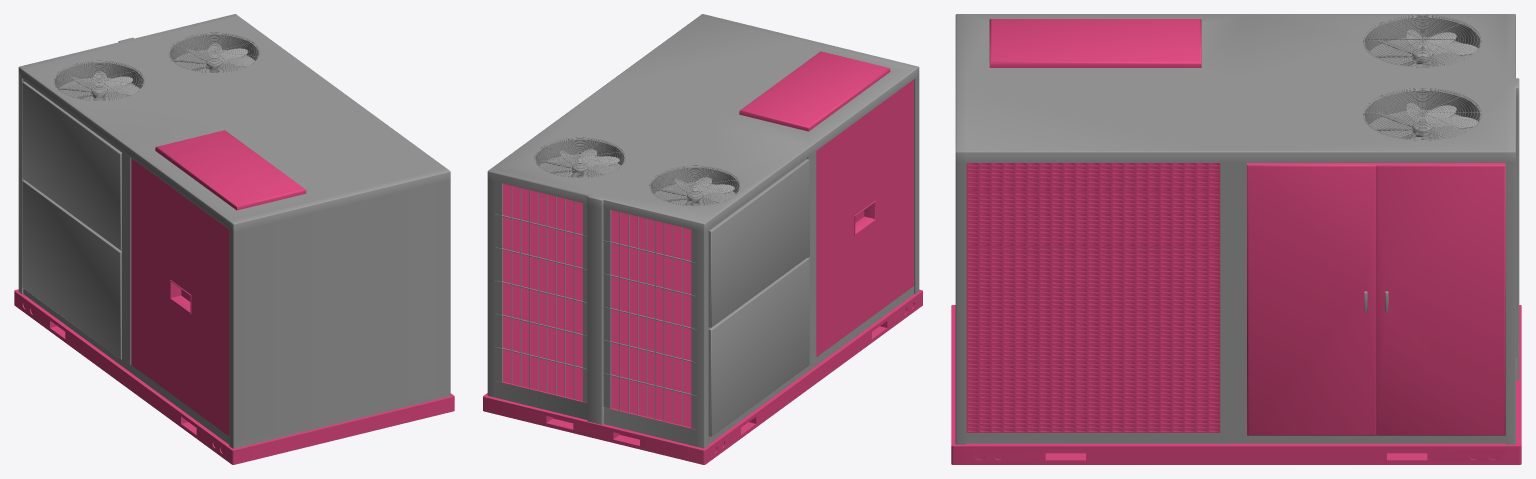
The model's file is hvacSEPARATED.fbx.
The picture shows the model from 3 angles, left to right: view 1: azimuth 30°, elevation 25°; view 2: azimuth 150°, elevation 25°; view 3: azimuth 270°, elevation 25°; orthographic projection. The views are drawn at different scales.
Visible parts, largest first — view 1: hvacS, hvacH2, hvacH1; view 2: hvacS, hvacH2, hvacH1; view 3: hvacS, hvacH2, hvacH1.
Part boxes in pixels (bbox=[...]): hvacS: bbox=[14, 14, 454, 464]; hvacH2: bbox=[173, 43, 254, 72]; hvacH1: bbox=[58, 71, 139, 100]; hvacS: bbox=[483, 14, 922, 464]; hvacH2: bbox=[540, 149, 619, 177]; hvacH1: bbox=[655, 177, 734, 205]; hvacS: bbox=[951, 14, 1521, 464]; hvacH2: bbox=[1375, 102, 1477, 139]; hvacH1: bbox=[1376, 29, 1477, 66].
Bounding box in the file's own units: 1.26 × 1.3 × 2.11.
